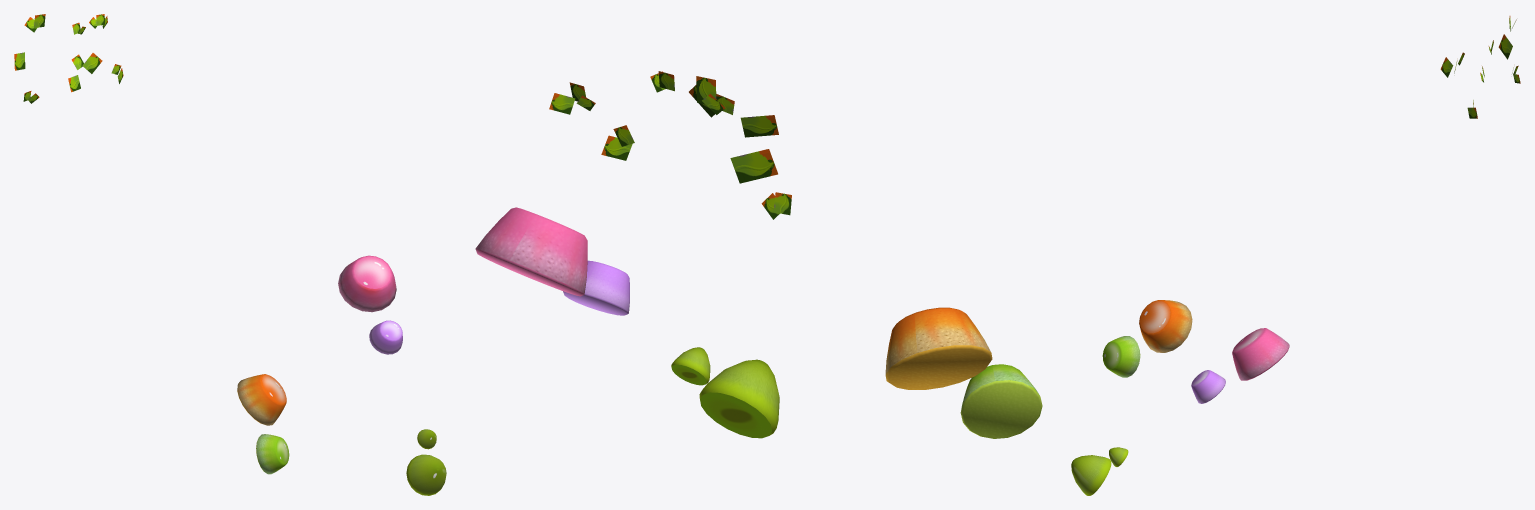
Rendered from seg1touming.fbx.
The picture shows the model from 3 angles, left to right: view 1: azimuth 30°, elevation 25°; view 2: azimuth 150°, elevation 25°; view 3: azimuth 270°, elevation 25°; orthographic projection. The views are drawn at different scales.
Parts seen in each view (by area): view 1: segtouming1; view 2: segtouming1; view 3: segtouming1.
Part boxes in pixels (x1,y1,x2,y2): segtouming1: (14, 14, 446, 495); segtouming1: (475, 71, 1042, 438); segtouming1: (1071, 16, 1520, 495).
Size of the model in its own units: 47.59 by 64.61 by 68.44.
Materials: 1 (1 with a texture image).
